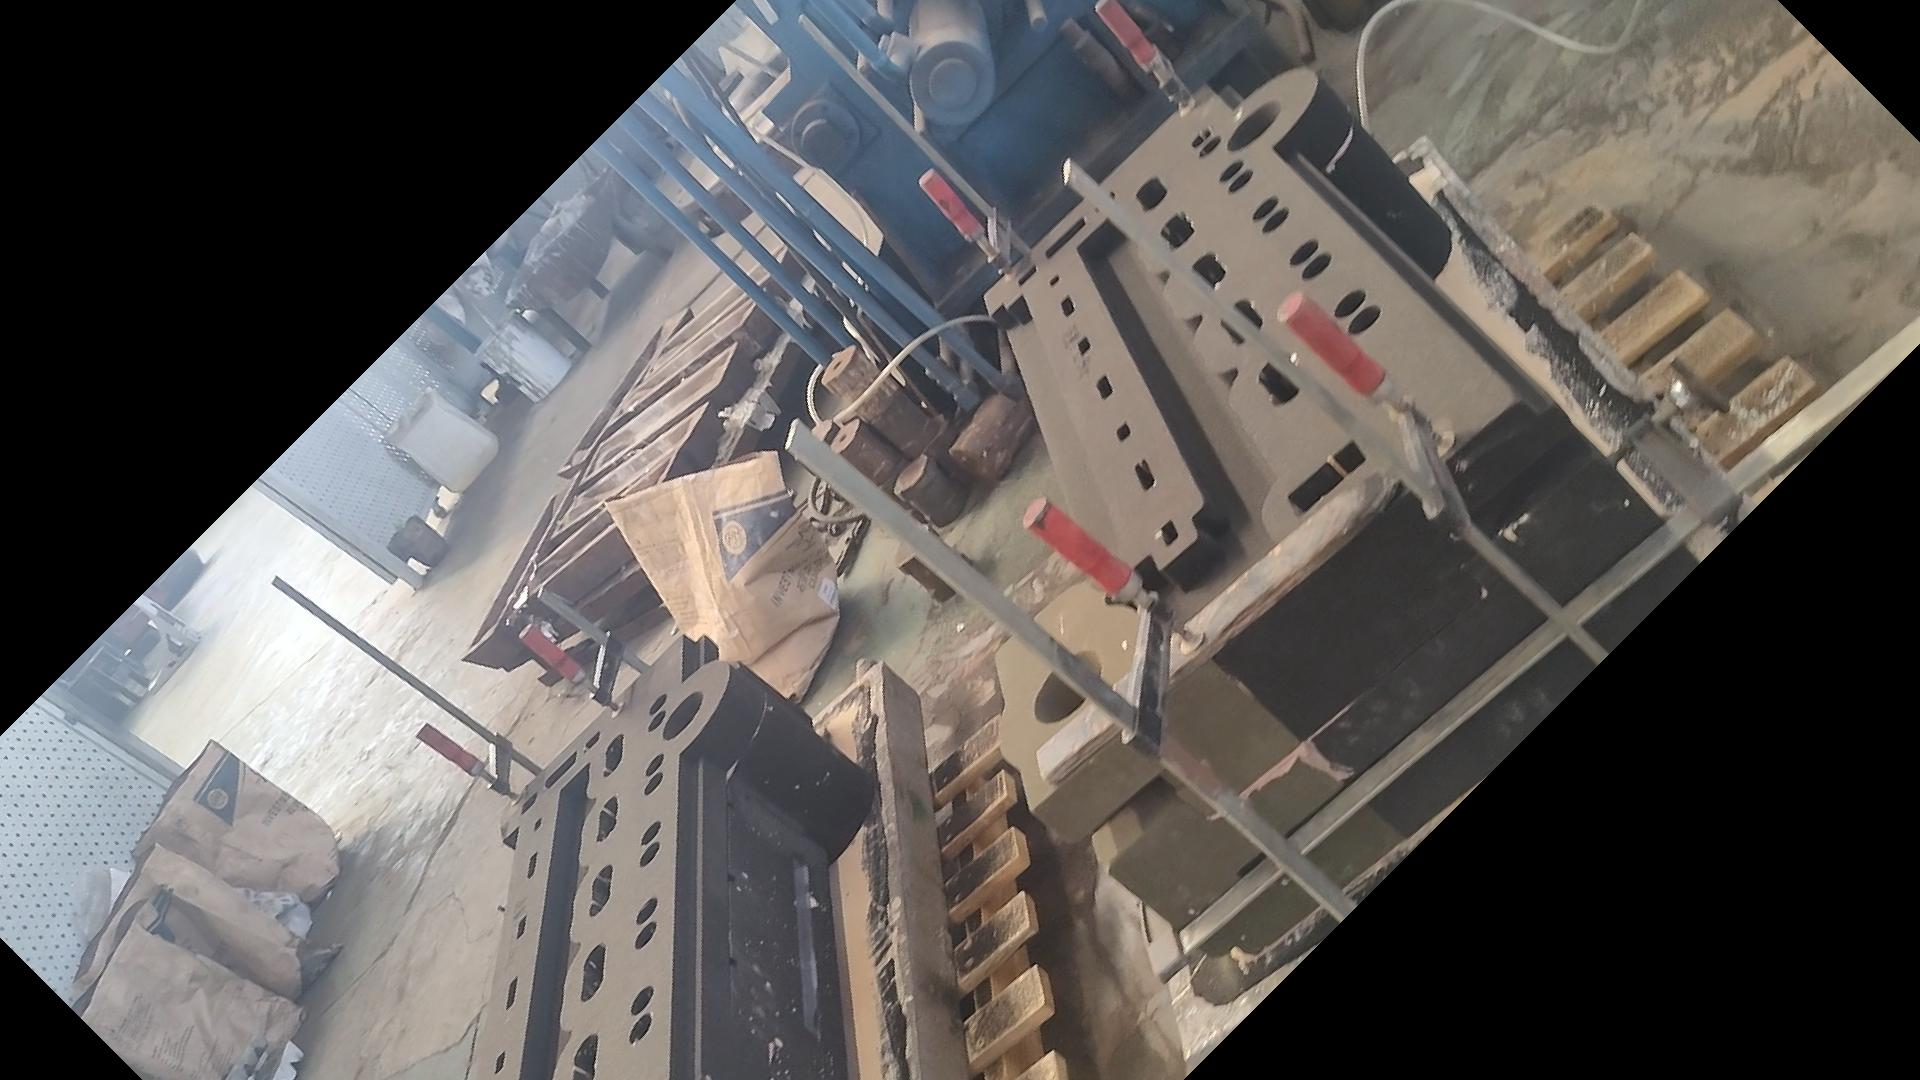pouring hole: (1034, 650, 1102, 724), (1225, 99, 1280, 152), (662, 690, 703, 742)
